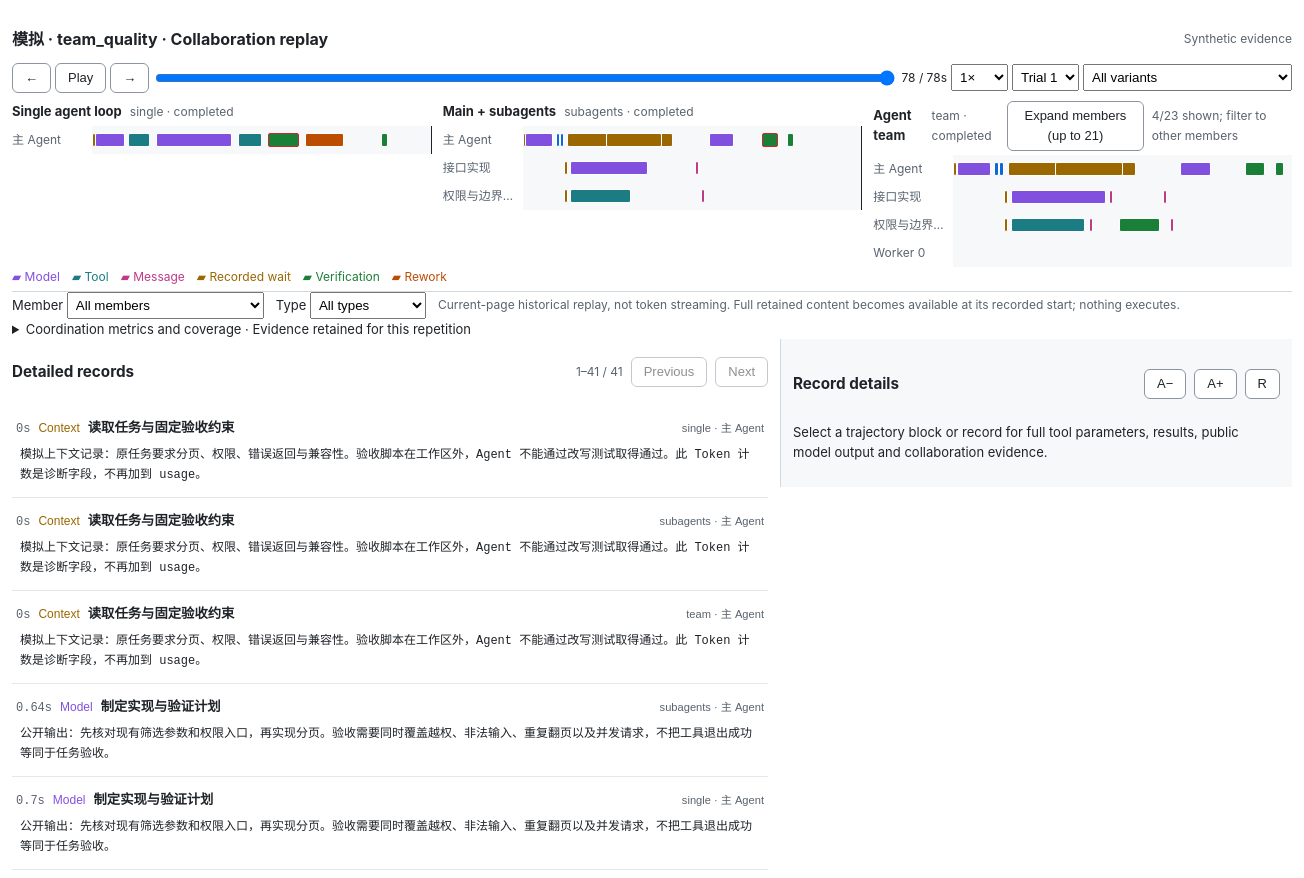
Test: collapses long rosters by default and can explicitly expand members
Click the button "Expand members (up to 21)" at [1075, 126], box [1007,100,1144,150]
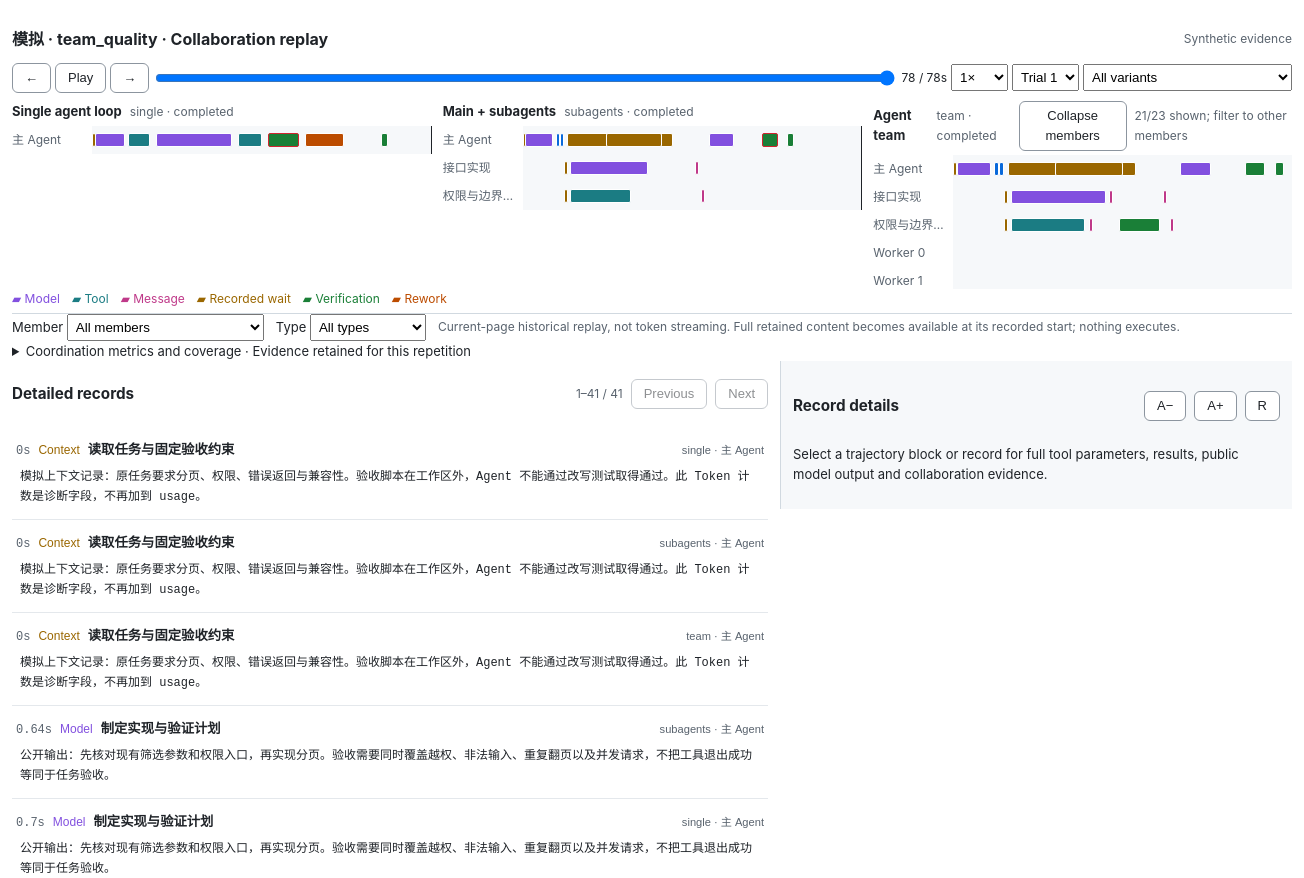
Expected: the element with class "team-exp-variant-lanes" shows "Collapse members", [1019,100,1127,150]
Expected: the element with class "team-exp-variant-lanes" shows "21/23 shown", [1134,108,1287,142]
